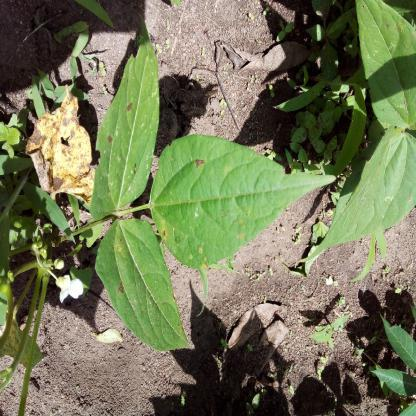Beans_Angular_LeafSpot: (202, 102, 289, 188), (88, 334, 203, 392), (137, 190, 203, 240), (138, 64, 190, 114)
